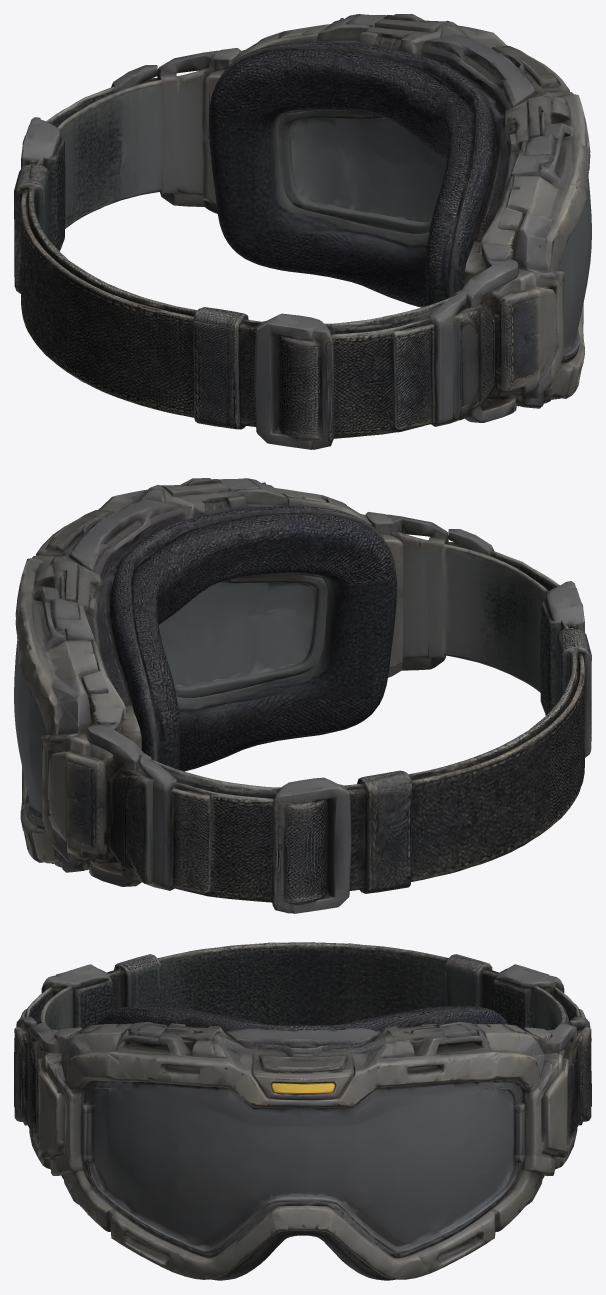
The model's file is tactical-goggles-v1.glb.
3 views of the same model, one above another, from view 1: azimuth 30°, elevation 25°; view 2: azimuth 150°, elevation 25°; view 3: azimuth 270°, elevation 25° (orthographic). The views are drawn at different scales.
Visible parts, largest first — view 1: tripo_node_2ddec561-34e2-480f-ada6-bec6d9593bb4; view 2: tripo_node_2ddec561-34e2-480f-ada6-bec6d9593bb4; view 3: tripo_node_2ddec561-34e2-480f-ada6-bec6d9593bb4.
Part boxes in pixels (x1,y1,x2,y2): tripo_node_2ddec561-34e2-480f-ada6-bec6d9593bb4: (14, 14, 591, 449); tripo_node_2ddec561-34e2-480f-ada6-bec6d9593bb4: (14, 478, 591, 913); tripo_node_2ddec561-34e2-480f-ada6-bec6d9593bb4: (14, 942, 591, 1280).
Size of the model in its own units: 0.871 by 0.4677 by 0.9854.
Materials: 1 (1 with a texture image).
